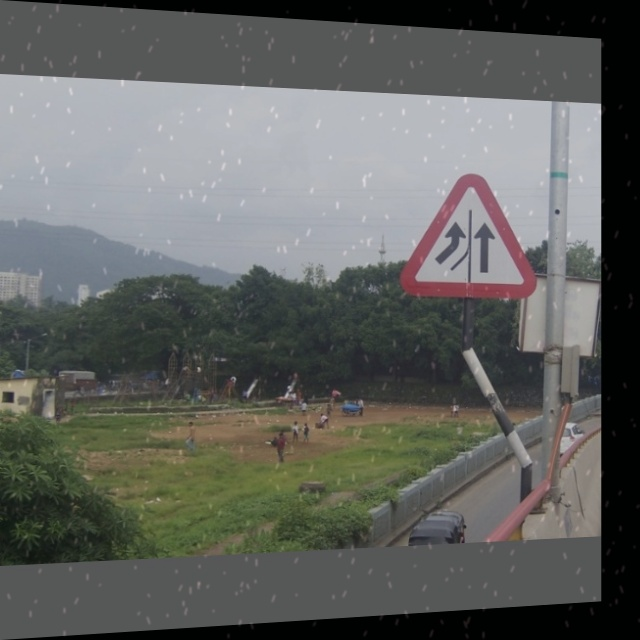Merge_Traffic_Ahead: (405, 169, 538, 304)
